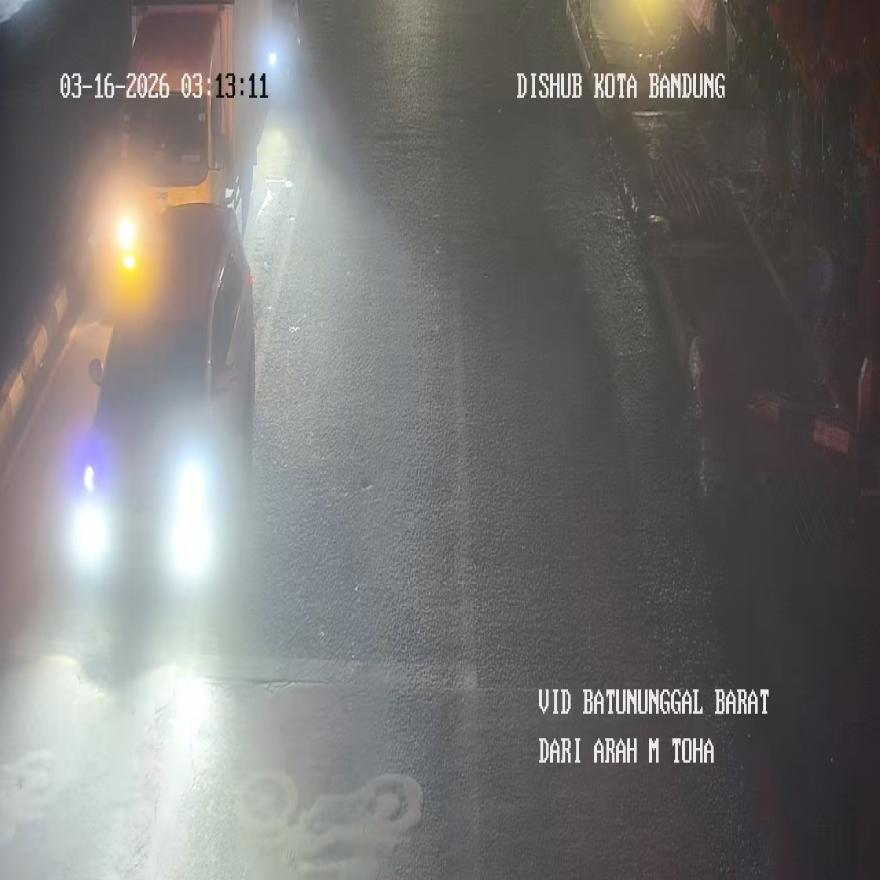Motor: (62, 204, 256, 587)
